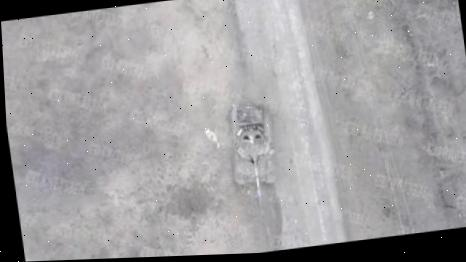tank: (222, 99, 283, 218)
